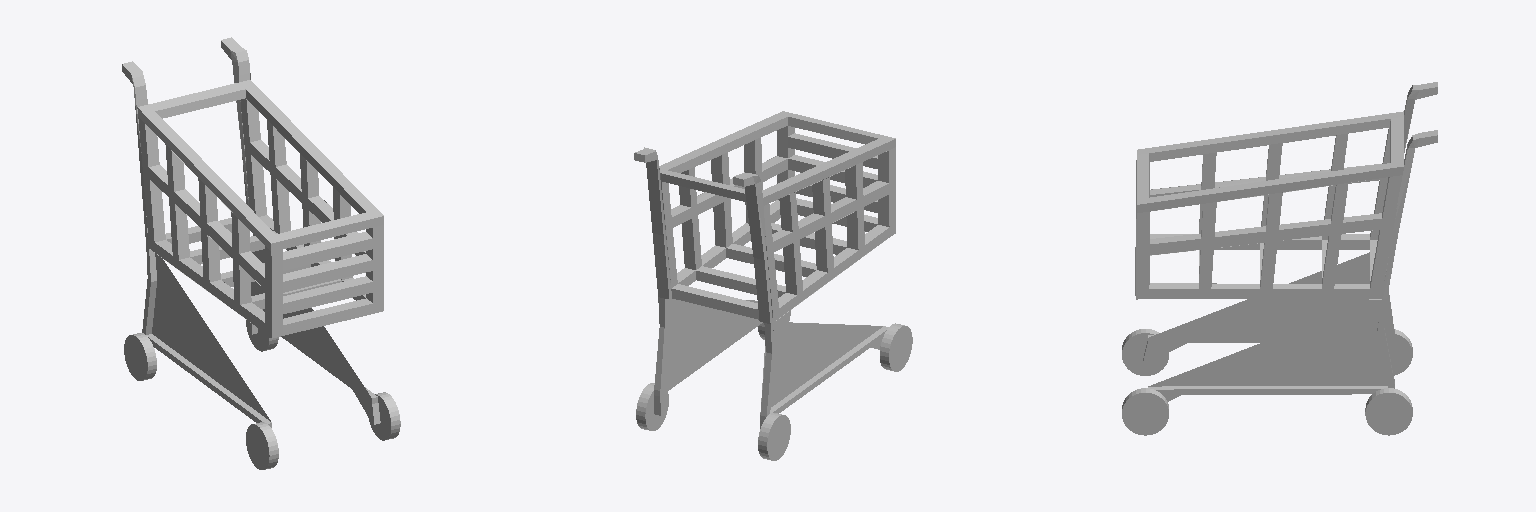
The model's file is cart 1.obj.
3 views of the same model, side by side, from view 1: azimuth 30°, elevation 25°; view 2: azimuth 150°, elevation 25°; view 3: azimuth 270°, elevation 25° (orthographic).
Parts seen in each view (by area): view 1: Plane_Plane.001; view 2: Plane_Plane.001; view 3: Plane_Plane.001.
Boxes of the visible parts, <box> form: Plane_Plane.001: <box>122,37,400,469</box>; Plane_Plane.001: <box>634,111,912,460</box>; Plane_Plane.001: <box>1122,82,1437,435</box>.
Bounding box in the file's own units: 1.55 × 3.33 × 3.23.